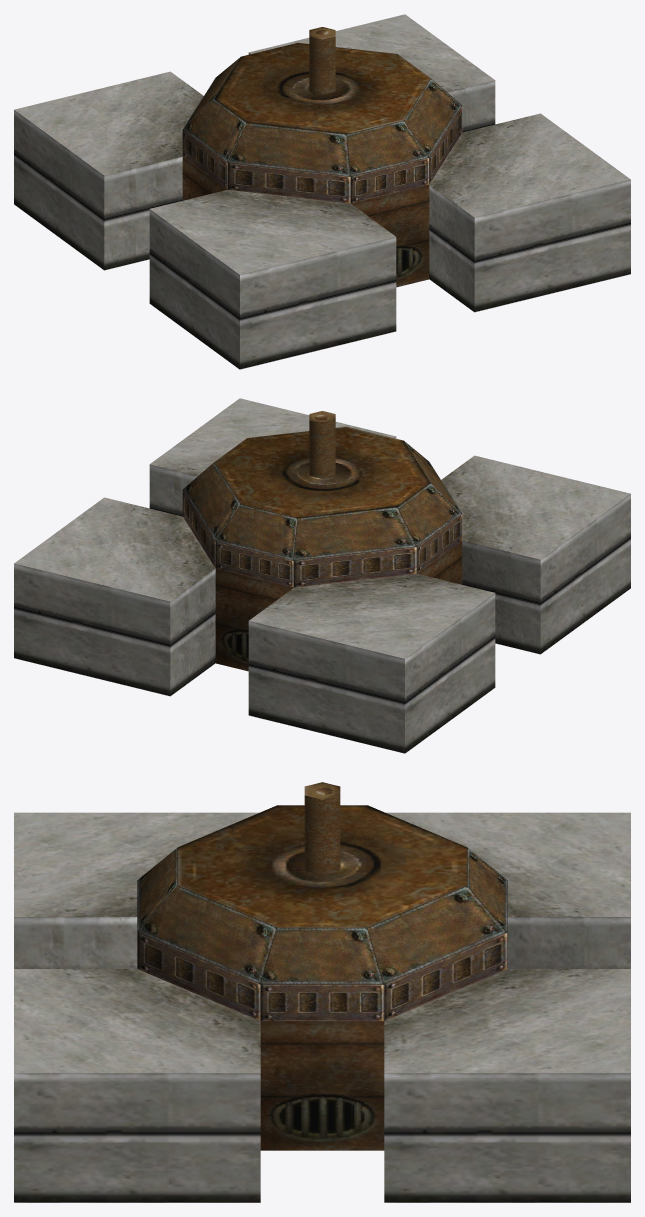
The model's file is WATER_PZL_PIECE.fbx.
3 renders of one model, top to bottom at view 1: azimuth 30°, elevation 25°; view 2: azimuth 150°, elevation 25°; view 3: azimuth 270°, elevation 25°, orthographic. The views are drawn at different scales.
Parts seen in each view (by area): view 1: WATER_PZL_PIECE; view 2: WATER_PZL_PIECE; view 3: WATER_PZL_PIECE.
Boxes of the visible parts, x1=… form: WATER_PZL_PIECE: x1=14, y1=14, x2=630, y2=369; WATER_PZL_PIECE: x1=14, y1=398, x2=630, y2=753; WATER_PZL_PIECE: x1=14, y1=782, x2=630, y2=1202.
Bounding box in the file's own units: 25000 × 12587 × 25000.
9 materials, 9 textured.
